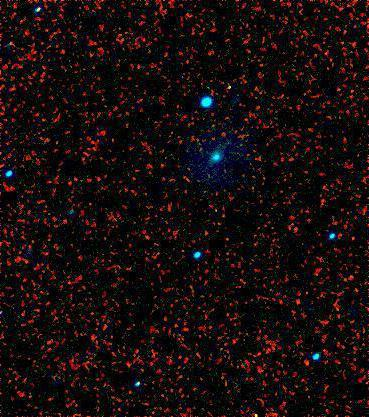star: (220, 72, 250, 102)
